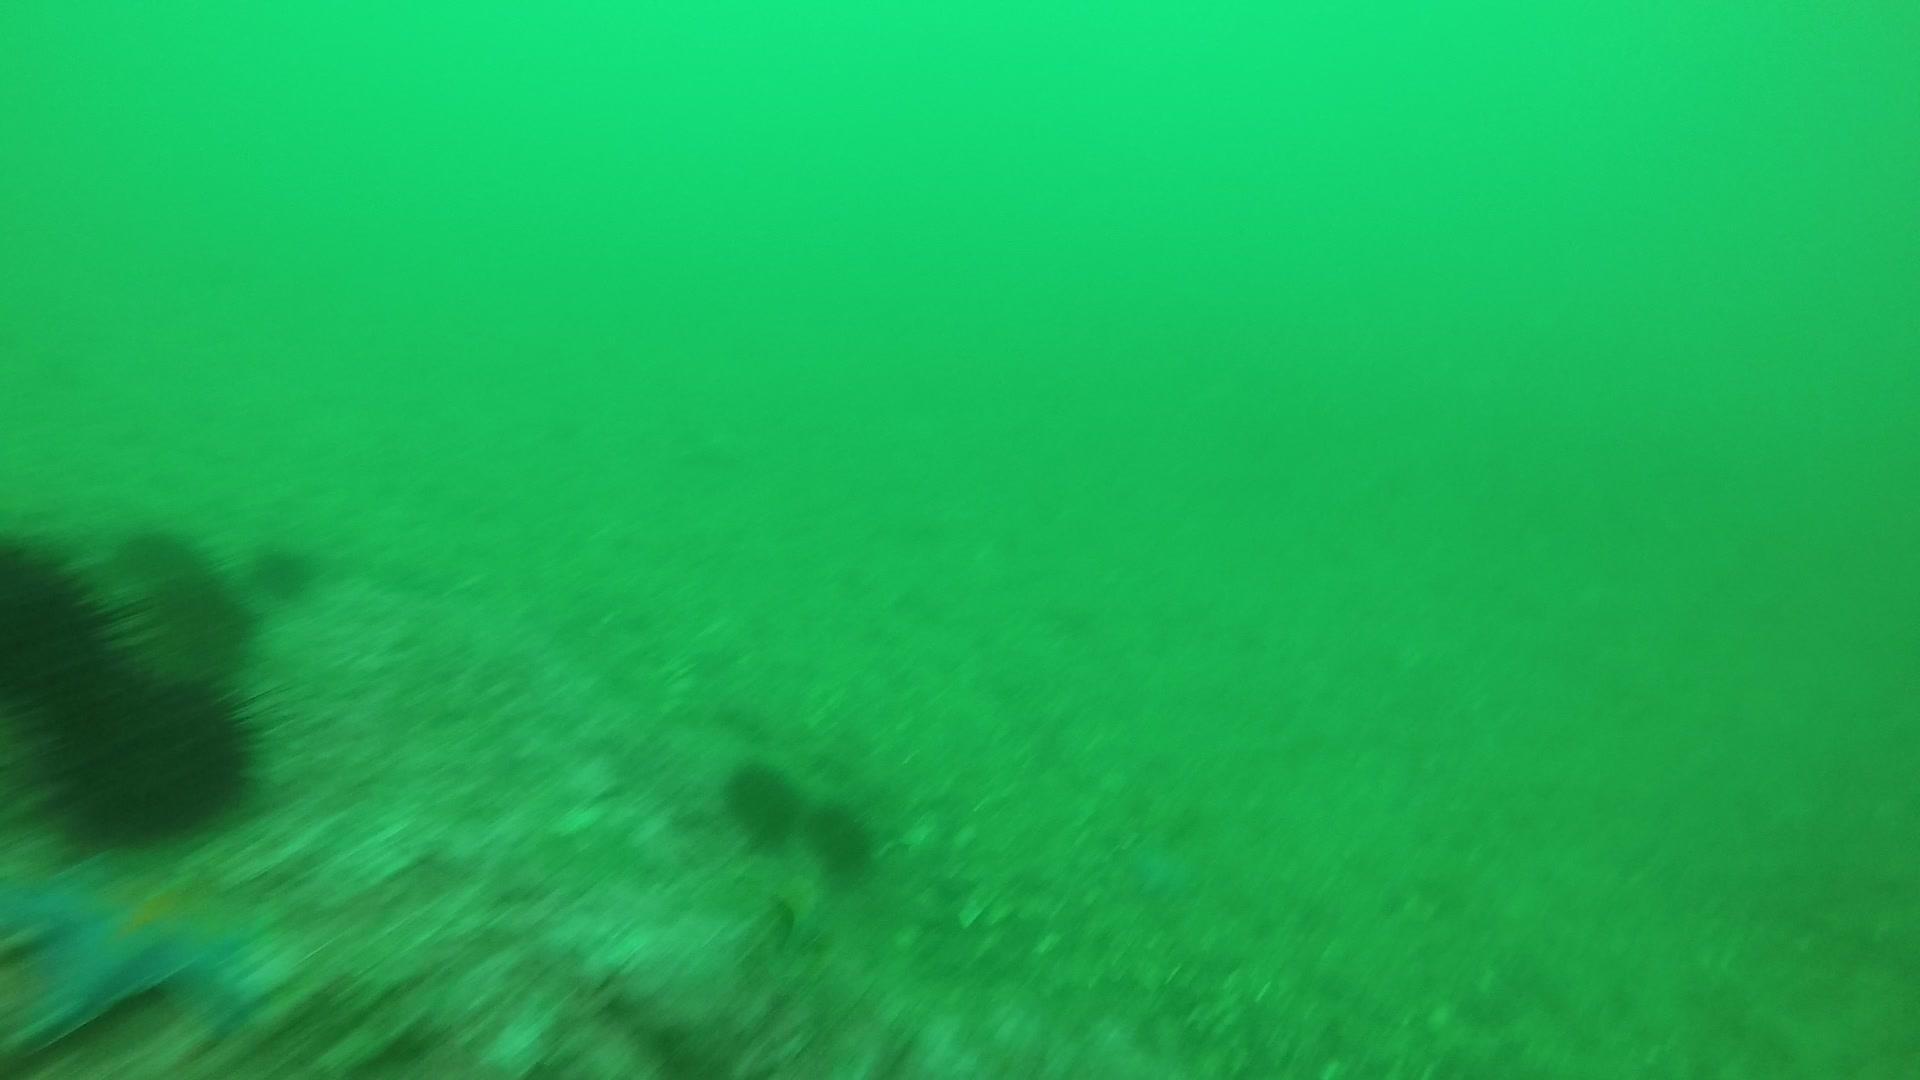echinus: (24, 665, 272, 852), (1, 526, 136, 727), (99, 530, 258, 690), (717, 756, 808, 849), (803, 796, 881, 882), (247, 535, 320, 601)
starfish: (3, 853, 284, 1062)
